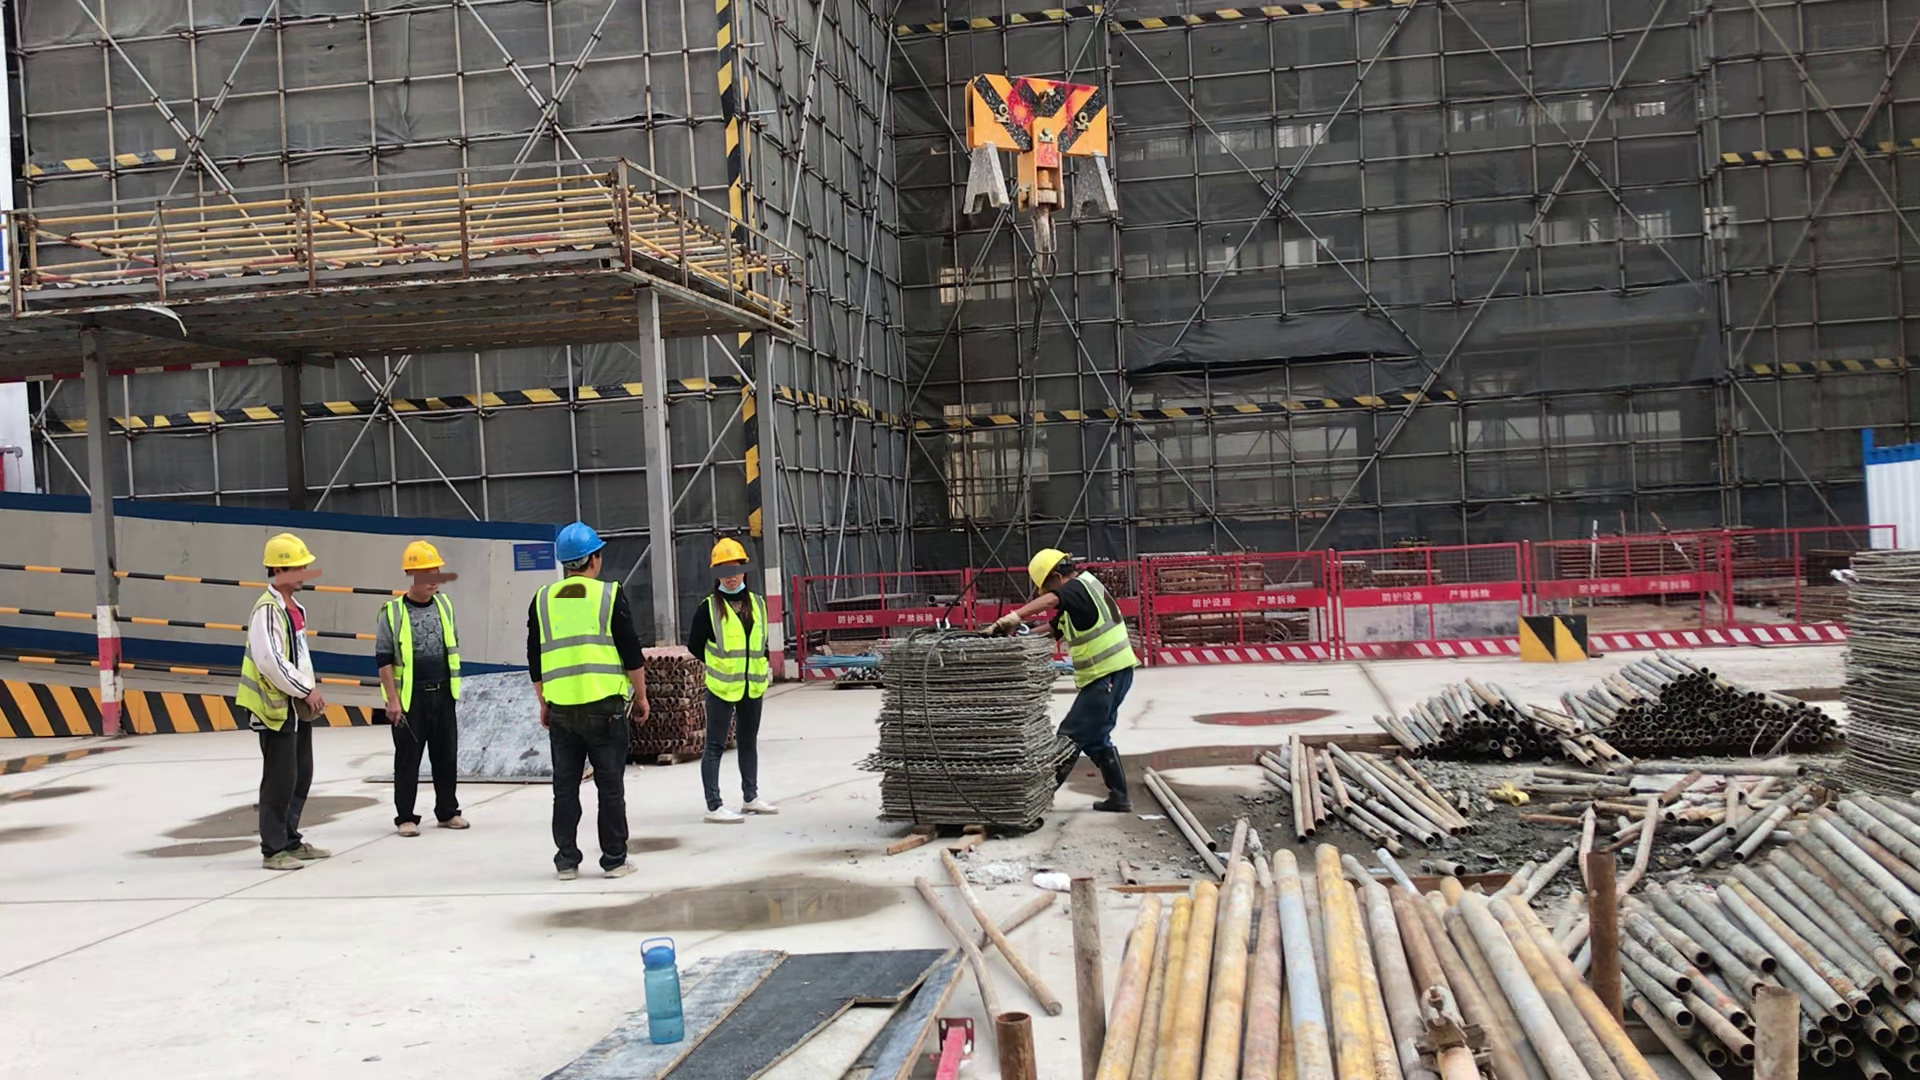fence: (1140, 520, 1879, 666), (794, 570, 1016, 665)
helmet: (556, 524, 606, 563), (263, 536, 316, 568), (1027, 551, 1068, 589), (402, 543, 445, 571), (712, 538, 750, 568)
hook: (961, 72, 1117, 257)
person: (529, 523, 642, 877), (1027, 551, 1133, 820), (375, 542, 470, 837), (690, 537, 779, 823), (250, 537, 327, 868)
scaffold: (1094, 850, 1661, 1080), (636, 639, 700, 764)
vest: (538, 583, 633, 704), (385, 597, 461, 707), (1059, 574, 1129, 682), (704, 595, 770, 701), (243, 615, 286, 739)
